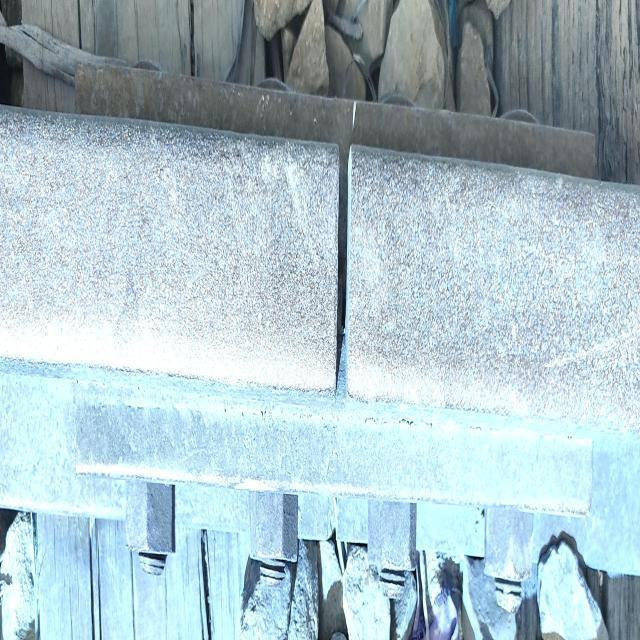broken_rail_low: (326, 132, 362, 414)
